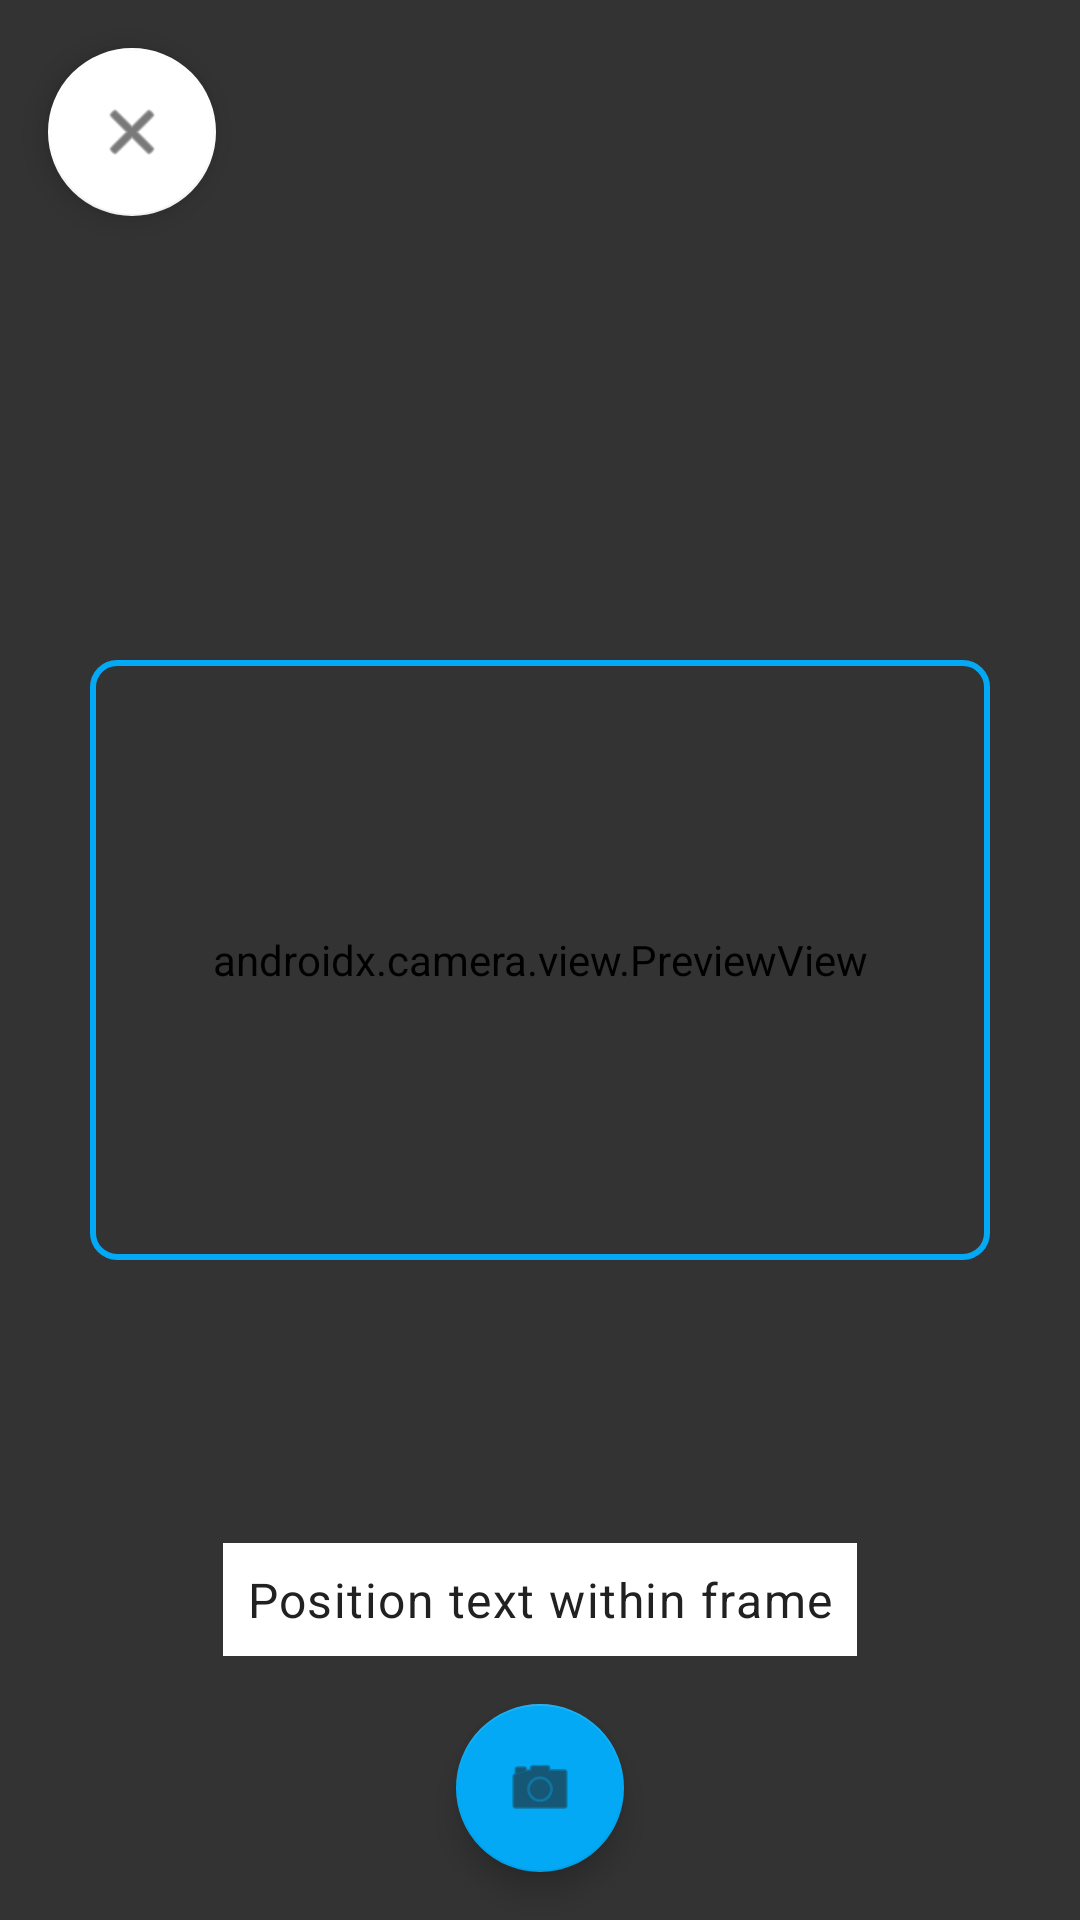

Icon click points for this 1080 x 1920 phone screenshot, format point (x, y):
Capture Image: point (540, 1788)
Close Camera: point (132, 132)
